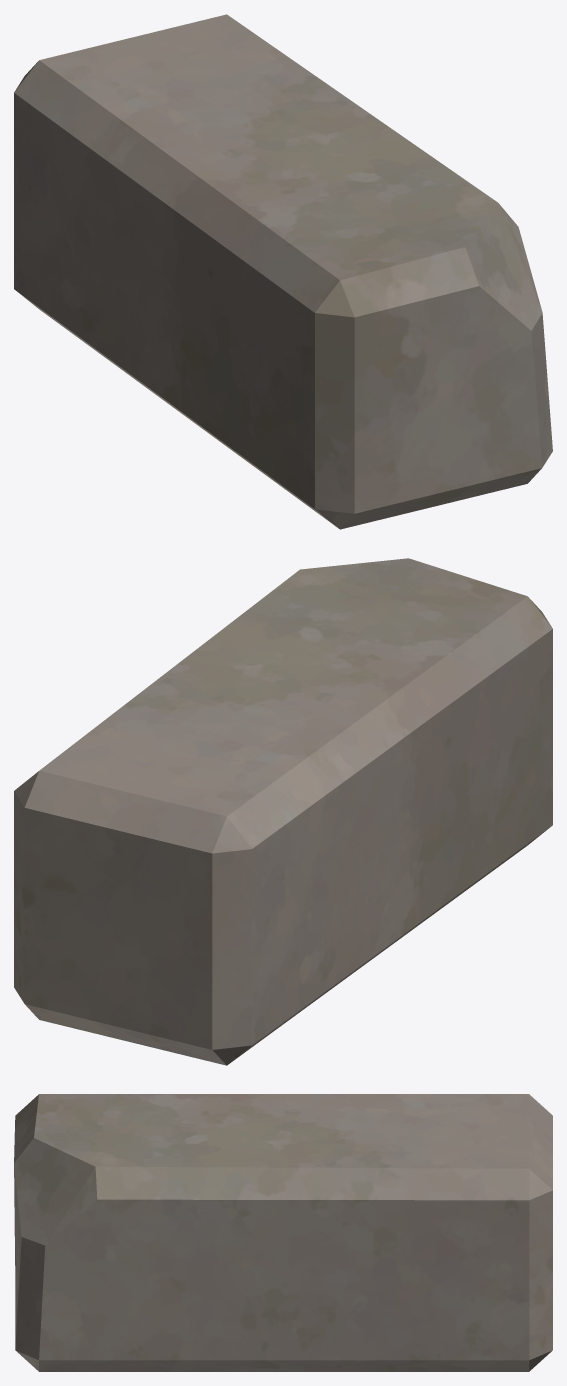
Rendered from SM_Stone_02.fbx.
3 renders of one model, top to bottom at view 1: azimuth 30°, elevation 25°; view 2: azimuth 150°, elevation 25°; view 3: azimuth 270°, elevation 25°, orthographic. The views are drawn at different scales.
Parts seen in each view (by area): view 1: SM_Stone_02_LOD0; view 2: SM_Stone_02_LOD0; view 3: SM_Stone_02_LOD0.
Boxes of the visible parts, <box> form: SM_Stone_02_LOD0: <box>14,14,552,529</box>; SM_Stone_02_LOD0: <box>14,558,552,1065</box>; SM_Stone_02_LOD0: <box>14,1094,552,1371</box>.
Bounding box in the file's own units: 50.28 × 120 × 51.19.
Materials: 1 (1 with a texture image).
